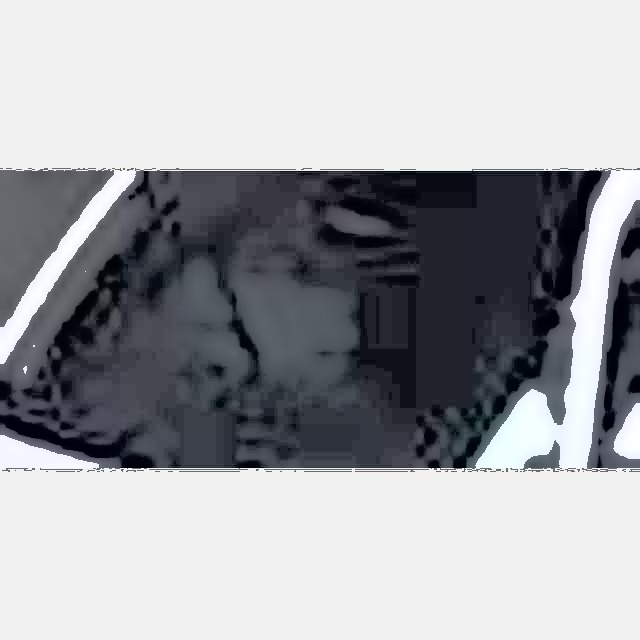pakai: (141, 201, 365, 402)
